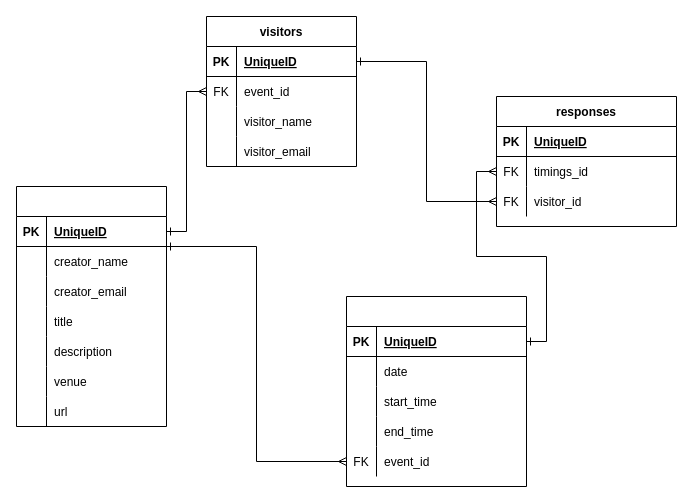
The diagram is 693 pixels wide and 503 high, and some of its shapes have lost their labels. The shapes that lost their labels are listed below. From the top down, each one's box as (x1, y1, x2, y2) in pixels, then its label:
(16, 186, 166, 426): events
(346, 296, 526, 486): timings
